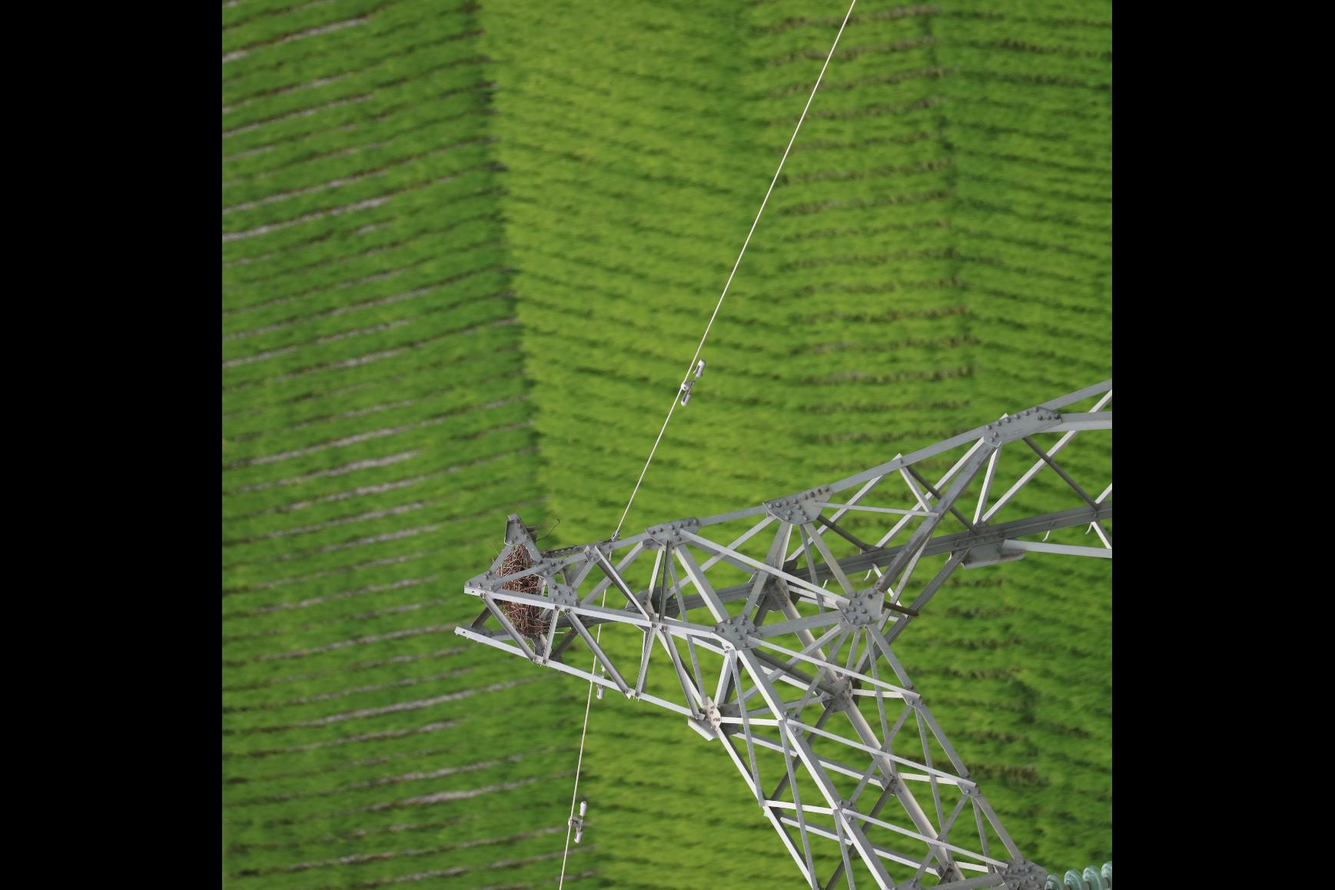damper: (676, 358, 708, 409), (564, 799, 589, 847), (593, 662, 609, 703)
nest: (493, 543, 546, 640)
